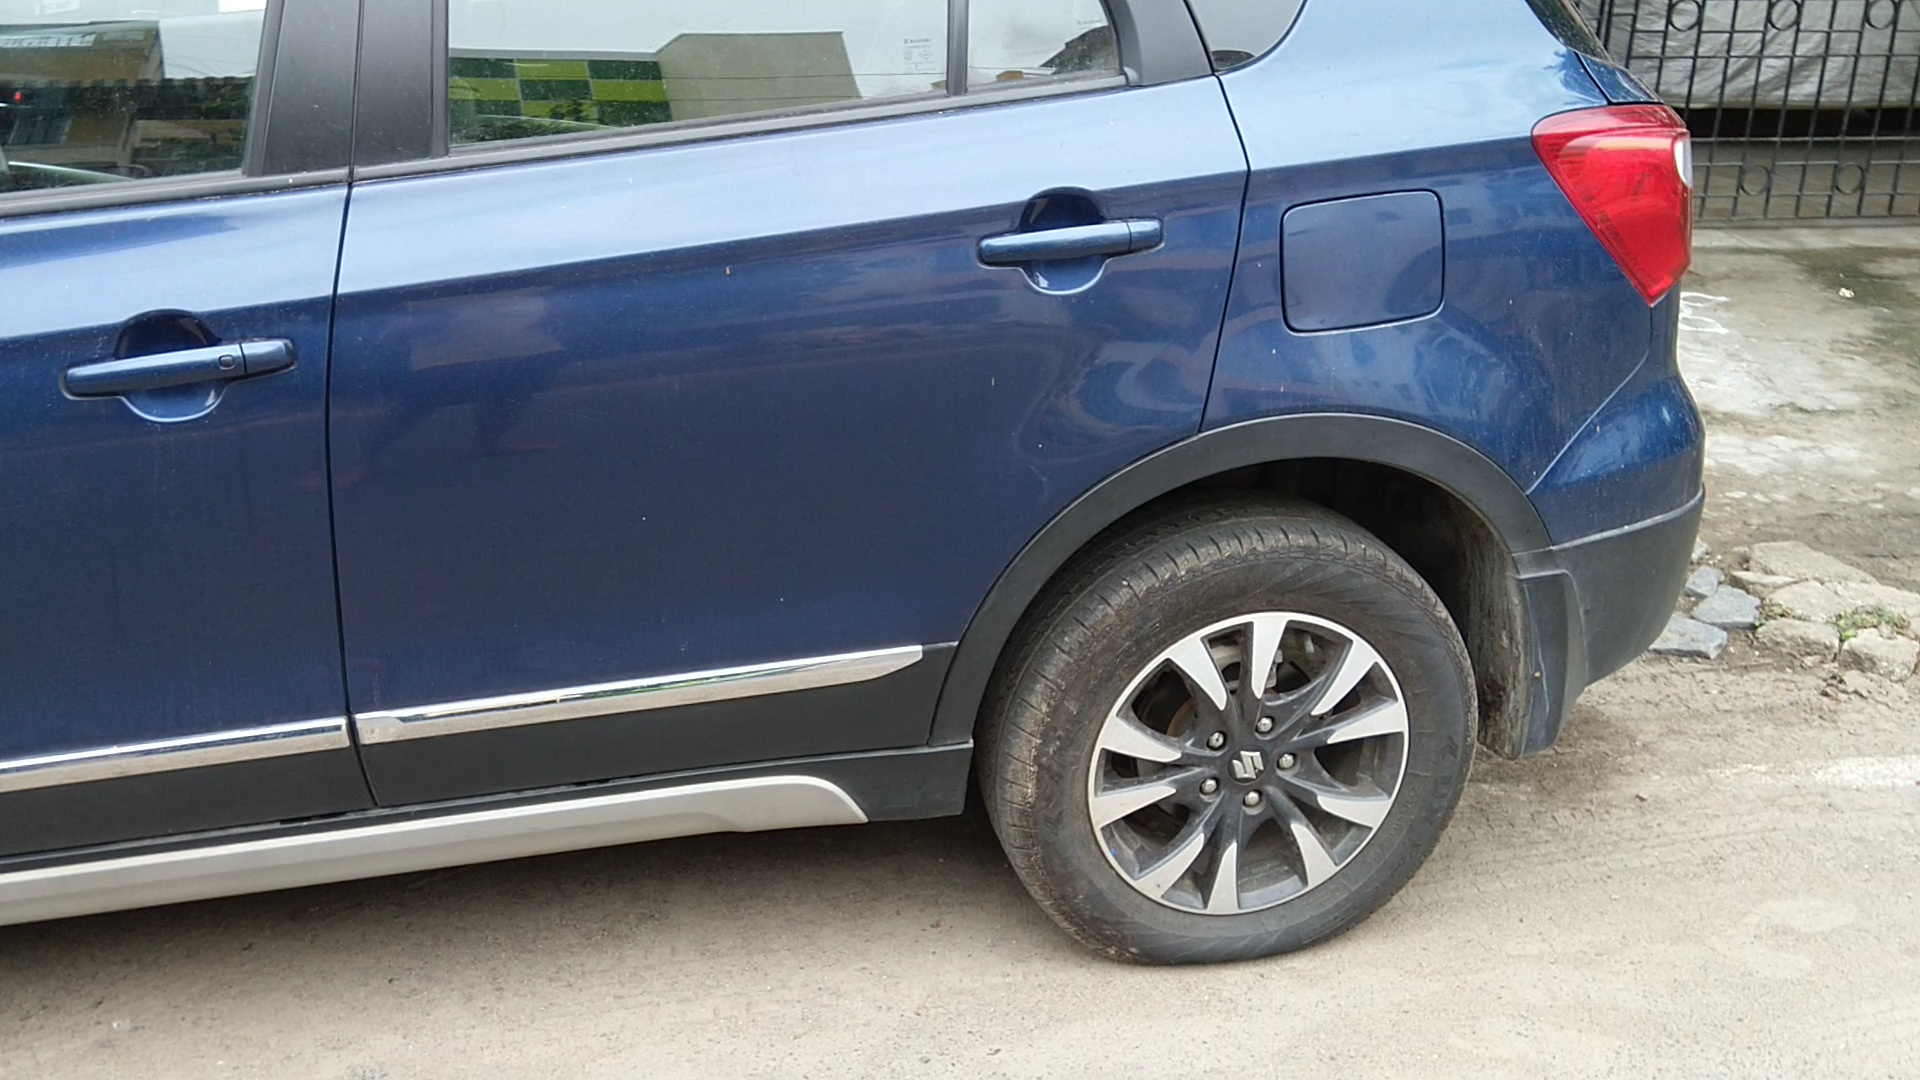alloy_wheel: (997, 527, 1480, 967)
